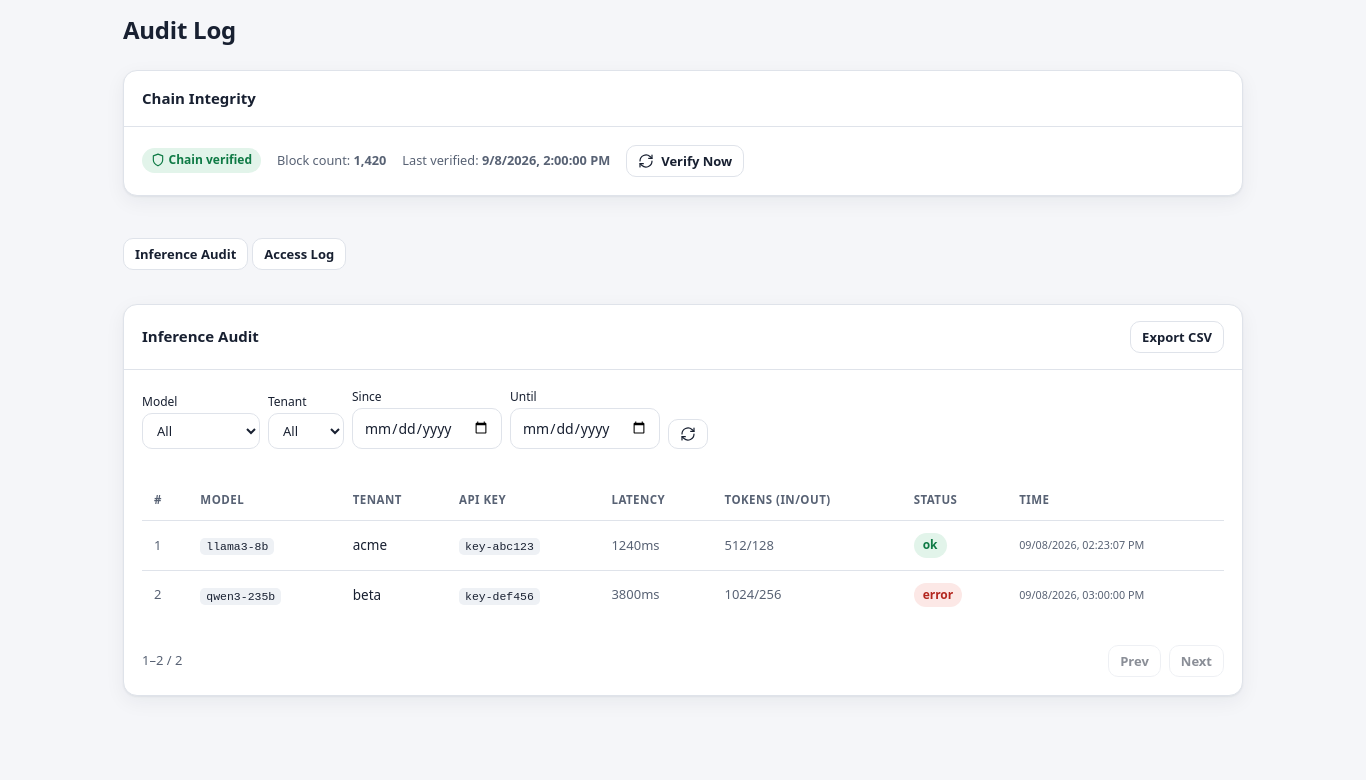
Test: AuditPage — Access Log tab › renders access log table
Switch to Access Log tab
Step 1. Click the tab "Access Log" → [299, 254], box left=252, top=238, right=346, bottom=270
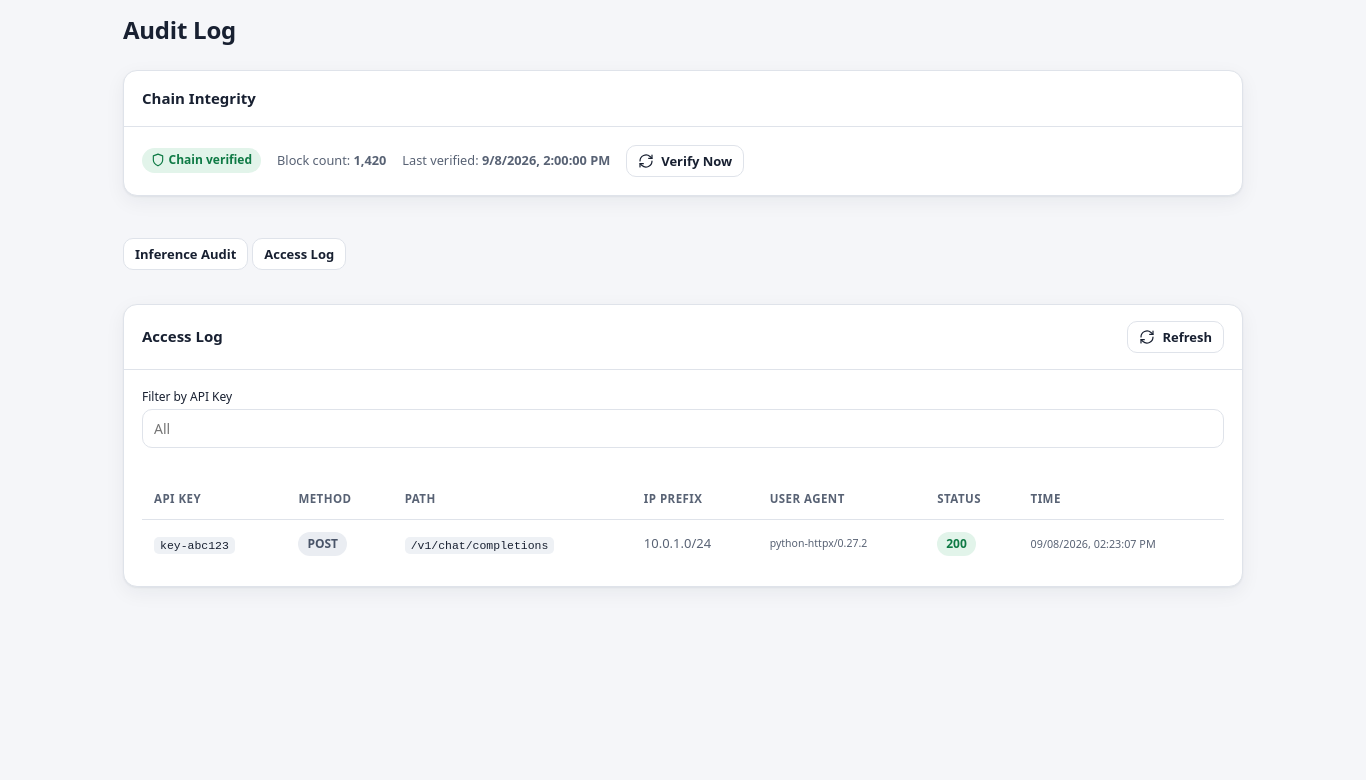
Now the column heading "Method" is shown, box left=286, top=478, right=393, bottom=519
Now the column heading "Path" is shown, box left=393, top=478, right=632, bottom=519
Now the column heading "IP Prefix" is shown, box left=632, top=478, right=758, bottom=519
